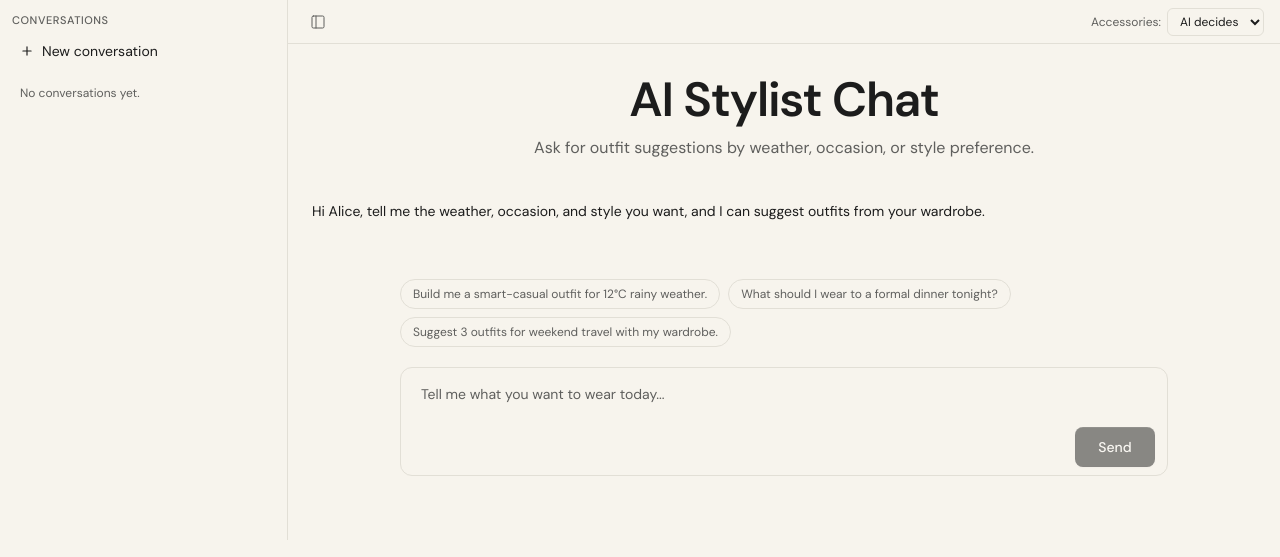
Scenario: ChatPage › sending a message › appends user message to the chat on send
Type "What should I wear today?" into the text box with placeholder "Tell me what you want to wear today..." at (784, 398), box [409,376,1159,420]
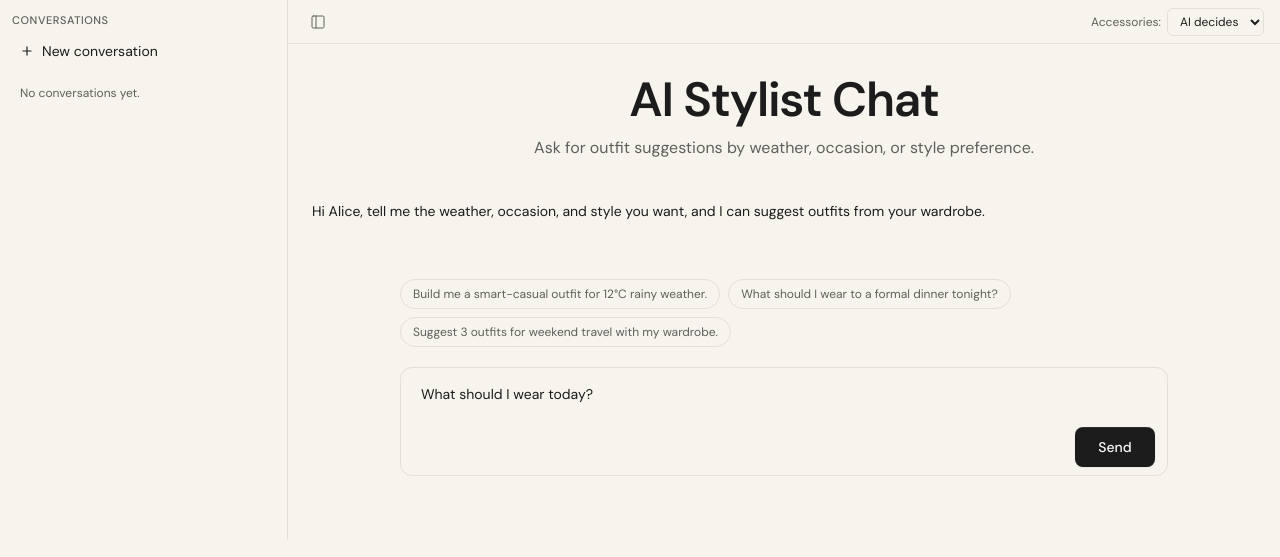
Click the button "Send" at (1115, 447), box [1075,427,1155,467]
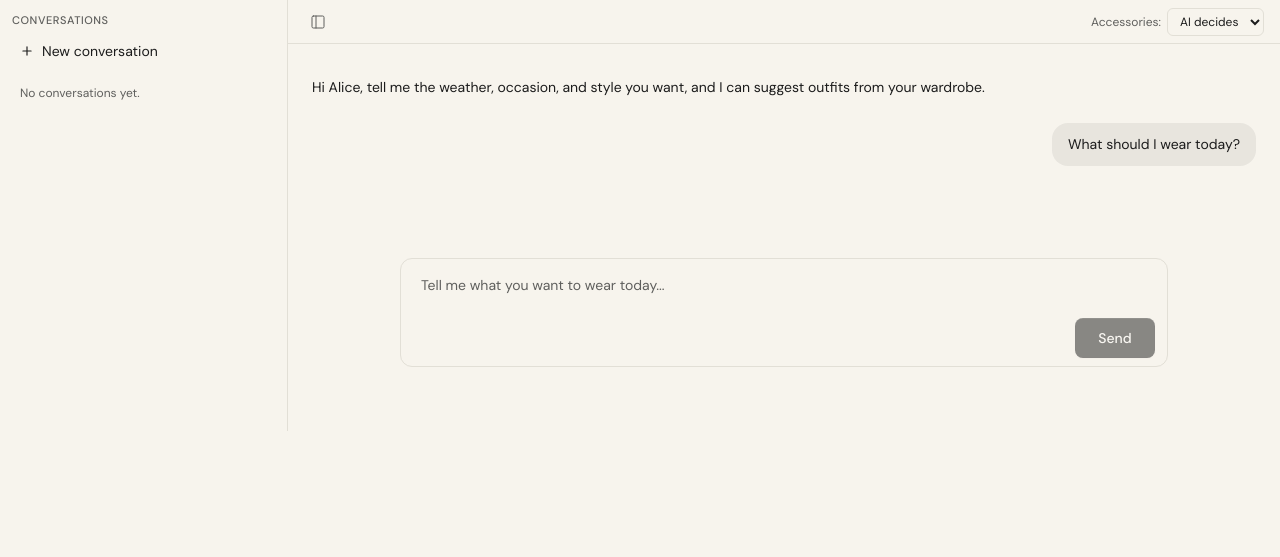
Check: the text "What should I wear today?" is shown, box [1068,133,1240,156]
